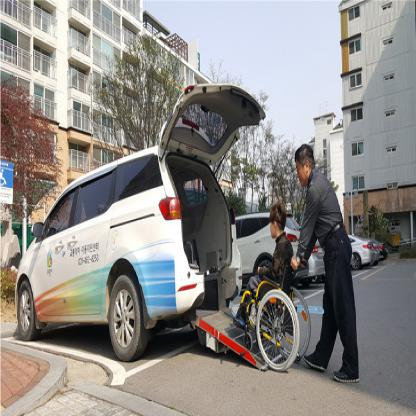wheelchair: (237, 201, 314, 377)
